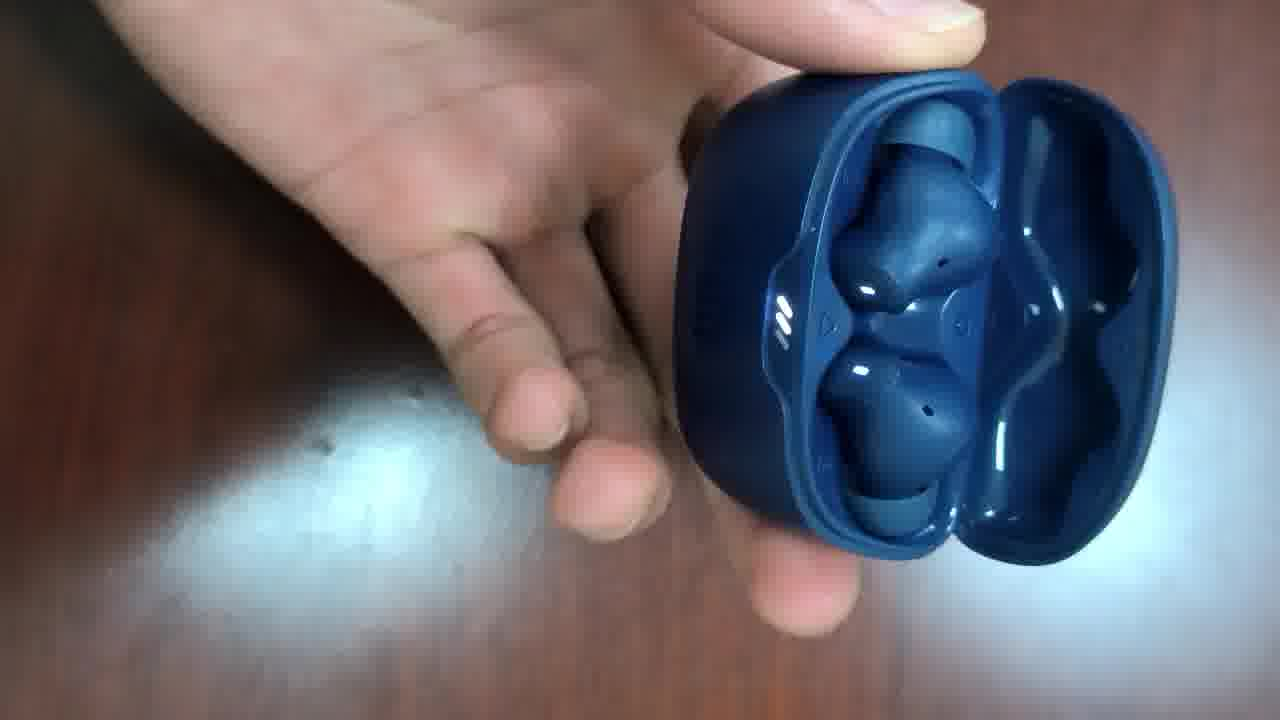Case: (673, 69, 1176, 563)
Earbud: (832, 100, 994, 311), (819, 346, 975, 535)
